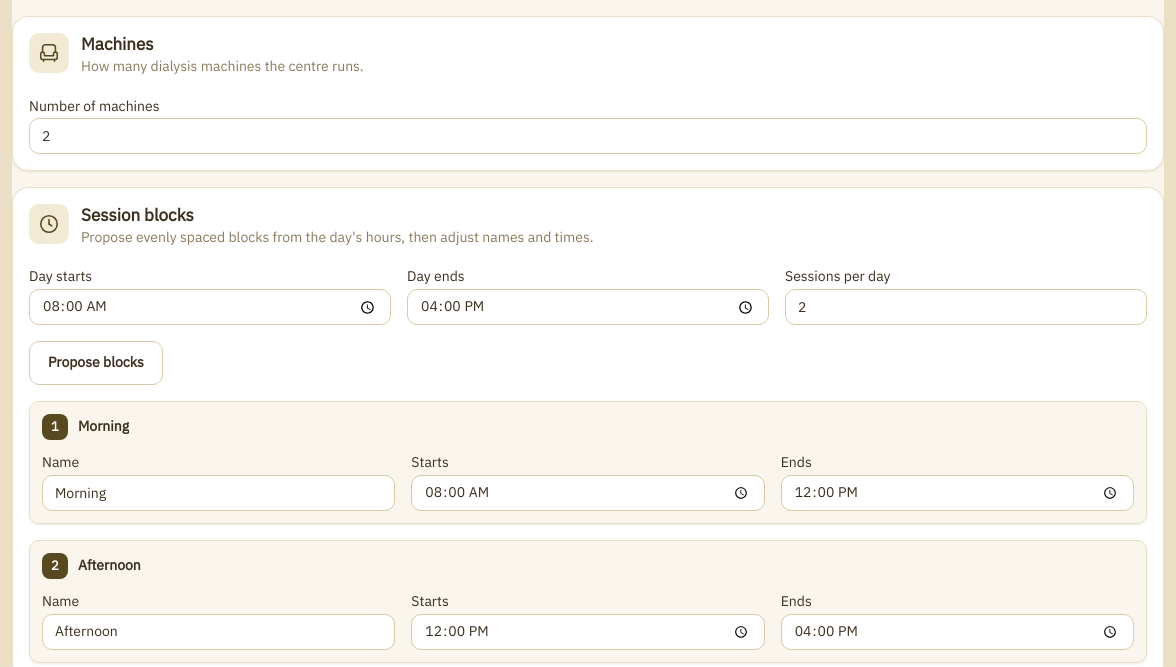
Scenario: SetupPage › a label rename does not wipe unsaved block edits
This screenshot has width=1176, height=667.
Replace the text in the field named "Name of block 1" with "Early" at (219, 493), box [42,475,395,511]
(page scrolled)
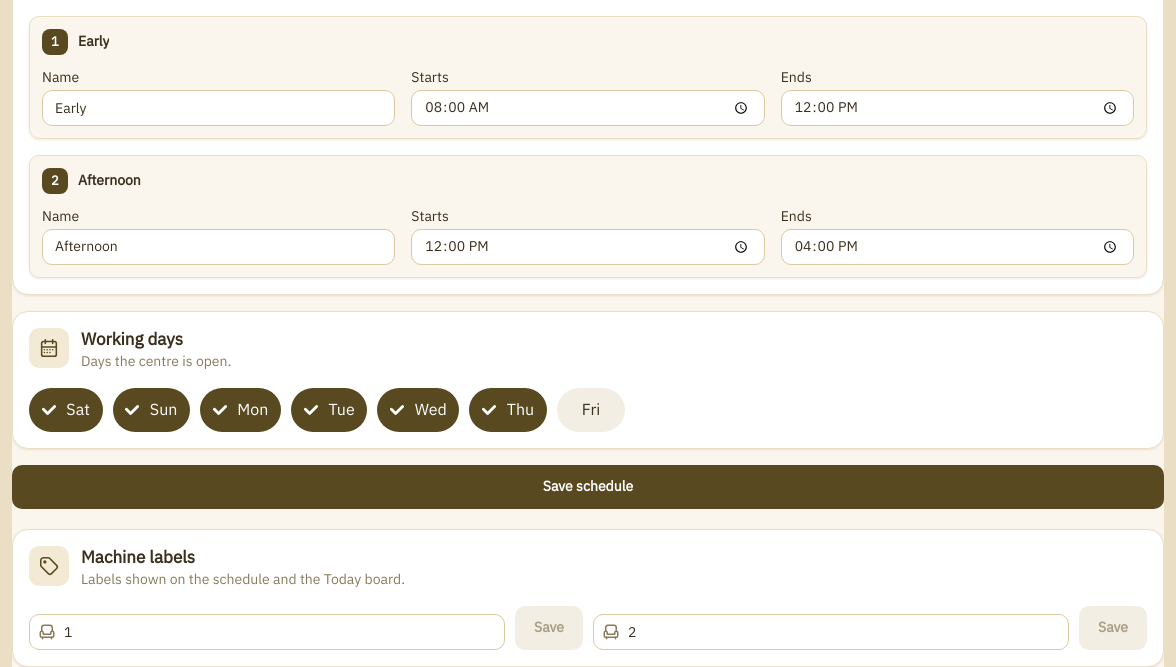
Replace the text in the field named "Label for machine 1" with "A" at (267, 632), box [29,614,505,650]
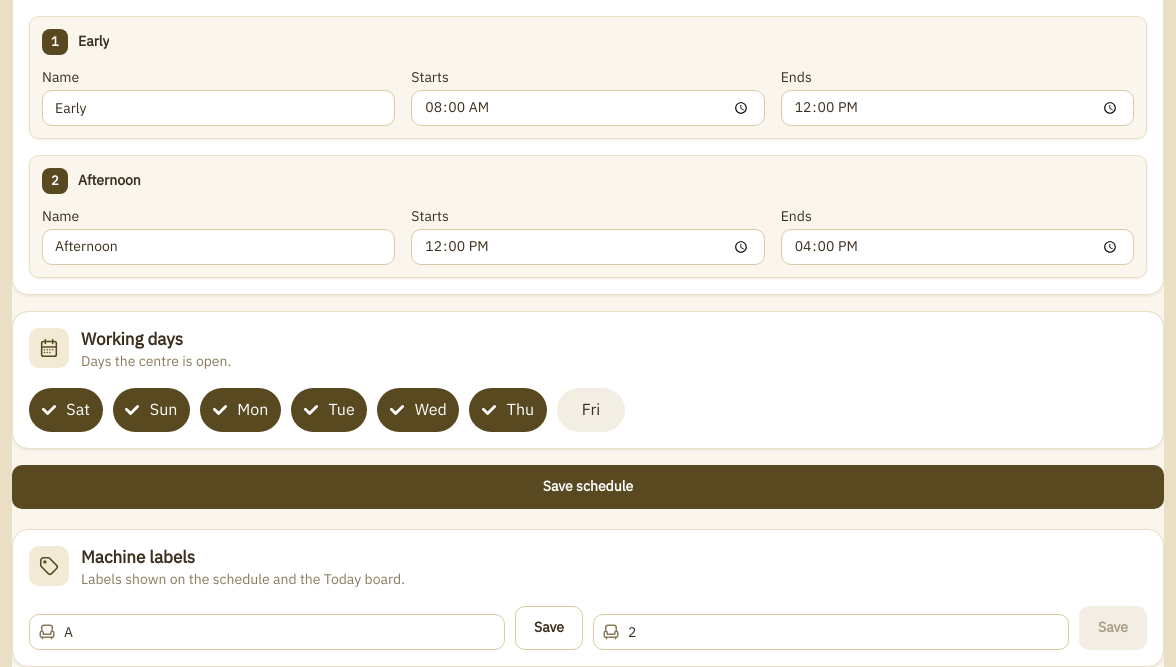
Click the button with aria-label "Save label 1".
click(549, 628)  # box [515,606,583,650]
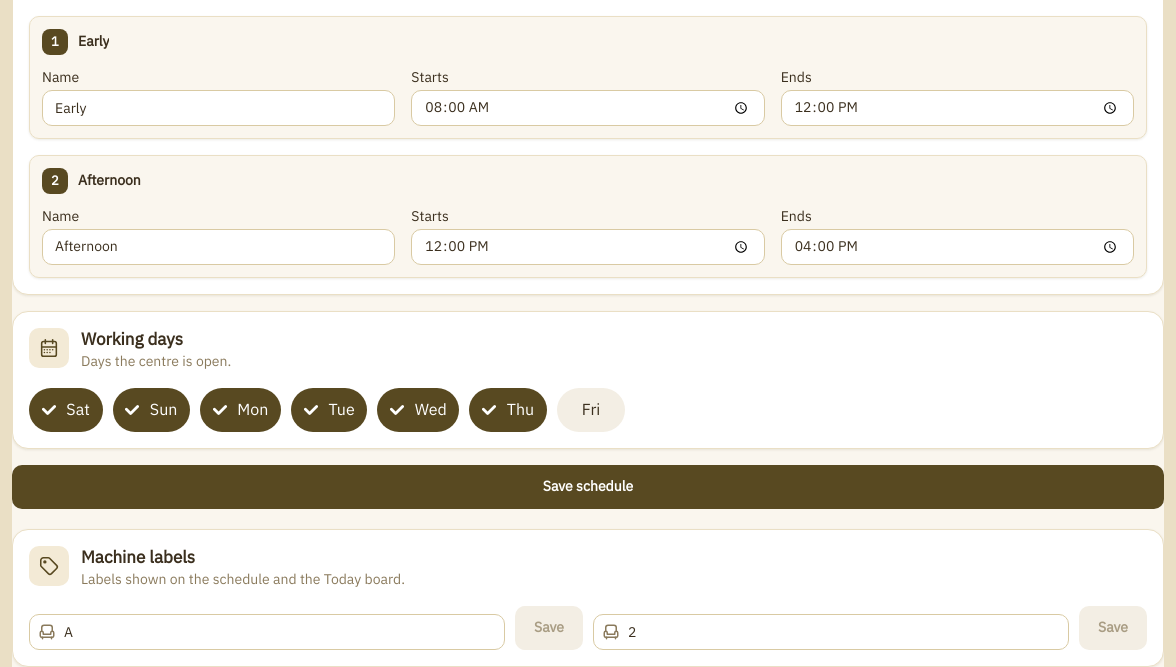
Expected: the button with aria-label "Save label 1" is disabled, [515,606,583,650]
